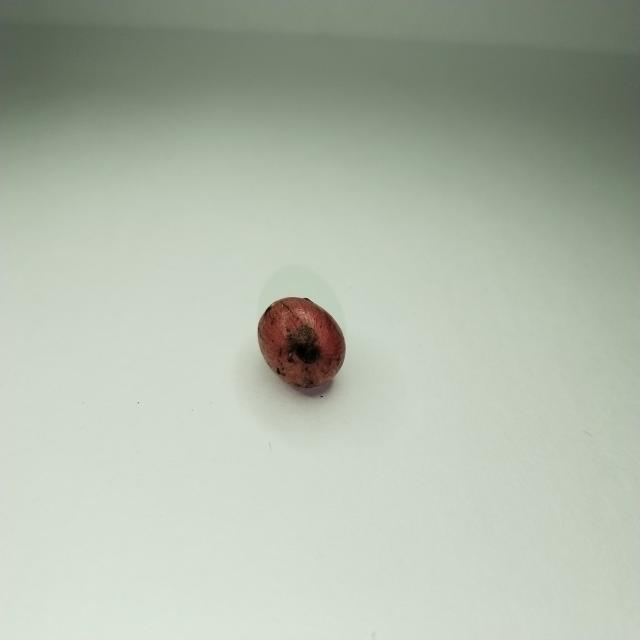Infectado: (258, 297, 345, 393)
